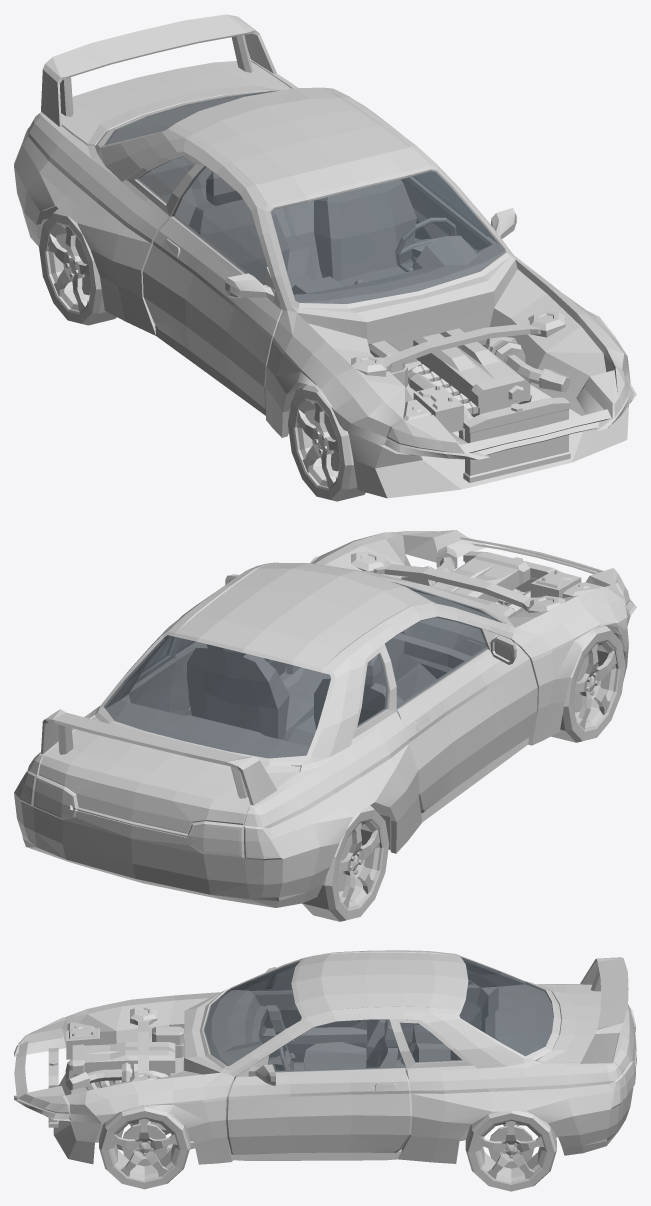
File: Sports_01_Base.glb
3 views of the same model, one above another, from view 1: azimuth 30°, elevation 25°; view 2: azimuth 150°, elevation 25°; view 3: azimuth 270°, elevation 25° (orthographic). The views are drawn at different scales.
Parts seen in each view (by area): view 1: SM_Veh_Sports_01, SM_Veh_Sports_01_Glass, SM_Veh_Sports_01_Door_R, SM_Veh_Sports_01_Spoiler_01, SM_Veh_Sports_01_Wheel_fr, SM_Veh_Sports_01_Door_R_Glass, SM_Veh_Sports_01_Wheel_rr, SM_Veh_Sports_01_Door_L, SM_Veh_Sports_01_Door_L_Glass, SM_Veh_Sports_01_SteeringW; view 2: SM_Veh_Sports_01, SM_Veh_Sports_01_Glass, SM_Veh_Sports_01_Door_R, SM_Veh_Sports_01_Wheel_rr, SM_Veh_Sports_01_Door_R_Glass, SM_Veh_Sports_01_Wheel_fr, SM_Veh_Sports_01_Spoiler_01, SM_Veh_Sports_01_Door_L; view 3: SM_Veh_Sports_01, SM_Veh_Sports_01_Door_L, SM_Veh_Sports_01_Glass, SM_Veh_Sports_01_Wheel_fl, SM_Veh_Sports_01_Wheel_rl, SM_Veh_Sports_01_Door_L_Glass, SM_Veh_Sports_01_Door_R, SM_Veh_Sports_01_Spoiler_01, SM_Veh_Sports_01_Door_R_Glass, SM_Veh_Sports_01_SteeringW.
Boxes of the visible parts, x1=… form: SM_Veh_Sports_01: x1=14, y1=60, x2=636, y2=498; SM_Veh_Sports_01_Glass: x1=104, y1=90, x2=504, y2=303; SM_Veh_Sports_01_Door_R: x1=142, y1=215, x2=282, y2=408; SM_Veh_Sports_01_Spoiler_01: x1=41, y1=14, x2=276, y2=126; SM_Veh_Sports_01_Wheel_fr: x1=288, y1=385, x2=365, y2=501; SM_Veh_Sports_01_Door_R_Glass: x1=172, y1=166, x2=267, y2=284; SM_Veh_Sports_01_Wheel_rr: x1=39, y1=208, x2=116, y2=325; SM_Veh_Sports_01_Door_L: x1=401, y1=176, x2=516, y2=250; SM_Veh_Sports_01_Door_L_Glass: x1=414, y1=172, x2=487, y2=235; SM_Veh_Sports_01_SteeringW: x1=395, y1=218, x2=456, y2=271; SM_Veh_Sports_01: x1=14, y1=530, x2=636, y2=907; SM_Veh_Sports_01_Glass: x1=103, y1=582, x2=502, y2=758; SM_Veh_Sports_01_Door_R: x1=396, y1=628, x2=537, y2=813; SM_Veh_Sports_01_Wheel_rr: x1=302, y1=805, x2=389, y2=921; SM_Veh_Sports_01_Door_R_Glass: x1=385, y1=617, x2=487, y2=709; SM_Veh_Sports_01_Wheel_fr: x1=551, y1=625, x2=625, y2=742; SM_Veh_Sports_01_Spoiler_01: x1=41, y1=709, x2=277, y2=805; SM_Veh_Sports_01_Door_L: x1=168, y1=574, x2=286, y2=715; SM_Veh_Sports_01: x1=14, y1=950, x2=636, y2=1164; SM_Veh_Sports_01_Door_L: x1=226, y1=1055, x2=412, y2=1154; SM_Veh_Sports_01_Glass: x1=203, y1=957, x2=553, y2=1065; SM_Veh_Sports_01_Wheel_fl: x1=99, y1=1106, x2=190, y2=1189; SM_Veh_Sports_01_Wheel_rl: x1=465, y1=1110, x2=556, y2=1191; SM_Veh_Sports_01_Door_L_Glass: x1=267, y1=1020, x2=406, y2=1071; SM_Veh_Sports_01_Door_R: x1=244, y1=967, x2=412, y2=1061; SM_Veh_Sports_01_Spoiler_01: x1=580, y1=957, x2=628, y2=1063; SM_Veh_Sports_01_Door_R_Glass: x1=266, y1=967, x2=294, y2=990; SM_Veh_Sports_01_SteeringW: x1=274, y1=1044, x2=293, y2=1070.
Size of the model in its own units: 2.05 by 1.43 by 4.88.
